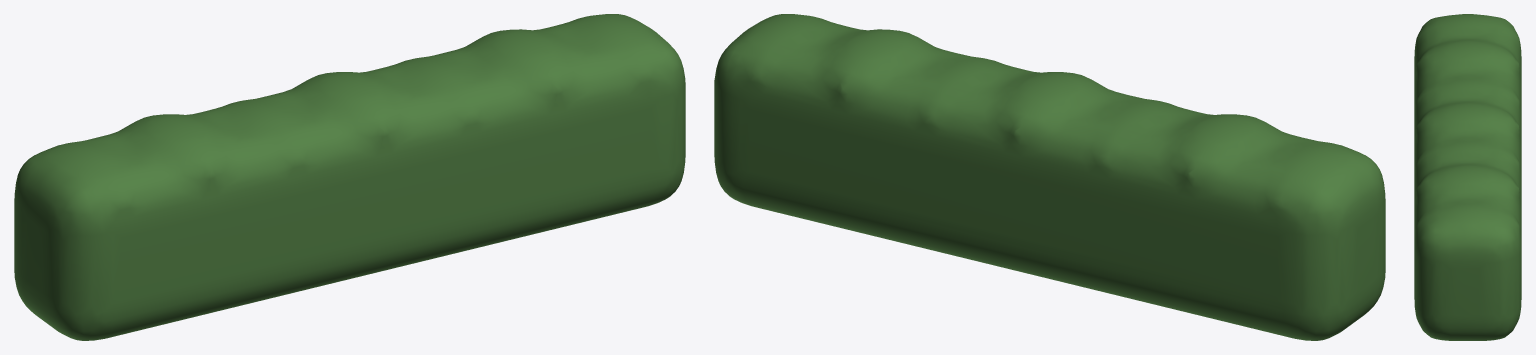
The model's file is hedge.glb.
3 views of the same model, side by side, from view 1: azimuth 30°, elevation 25°; view 2: azimuth 150°, elevation 25°; view 3: azimuth 270°, elevation 25° (orthographic). The views are drawn at different scales.
Parts seen in each view (by area): view 1: Clipped garden hedge; view 2: Clipped garden hedge; view 3: Clipped garden hedge.
Part boxes in pixels (x1,y1,x2,y2): Clipped garden hedge: (14, 14, 685, 340); Clipped garden hedge: (714, 14, 1385, 340); Clipped garden hedge: (1414, 14, 1521, 340).
Bounding box in the file's own units: 4 × 1.06 × 0.8.
